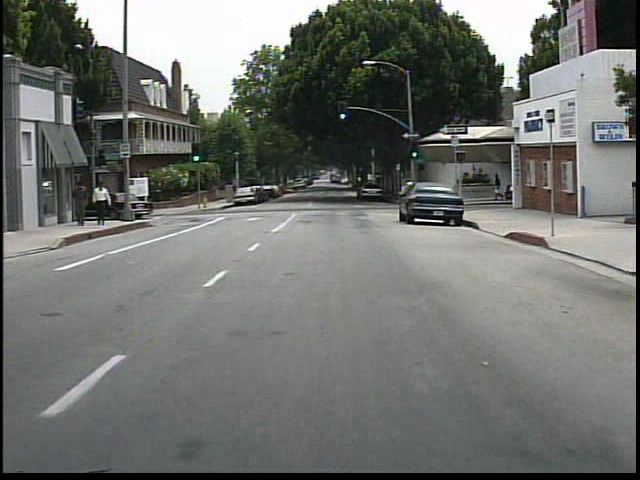person: (96, 180, 118, 227), (75, 182, 94, 229), (489, 170, 506, 205)
